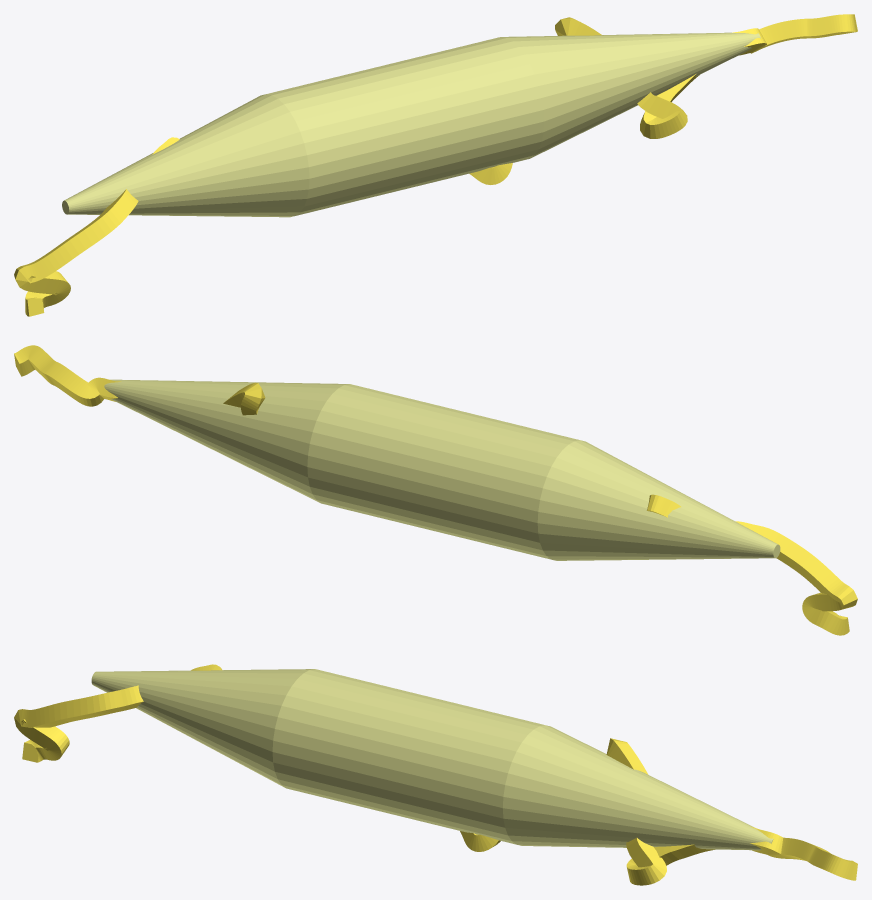
The model's file is CrystalLighting.fbx.
3 views of the same model, one above another, from view 1: azimuth 30°, elevation 25°; view 2: azimuth 150°, elevation 25°; view 3: azimuth 330°, elevation 25° (orthographic).
Visible parts, largest first — view 1: Cylinder, Cube; view 2: Cylinder, Cube; view 3: Cylinder, Cube.
Part boxes in pixels (bbox=[...]): Cylinder: bbox=[62, 32, 760, 217]; Cube: bbox=[14, 14, 857, 316]; Cylinder: bbox=[104, 379, 780, 560]; Cube: bbox=[14, 345, 857, 635]; Cylinder: bbox=[91, 669, 773, 850]; Cube: bbox=[14, 664, 857, 885].
Size of the model in its own units: 545 by 85.61 by 69.91.
